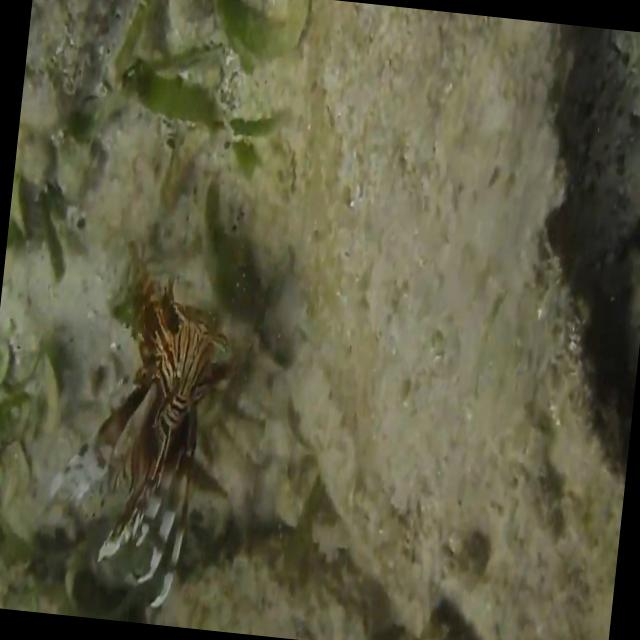Aslan Baligi: (30, 276, 270, 612)
